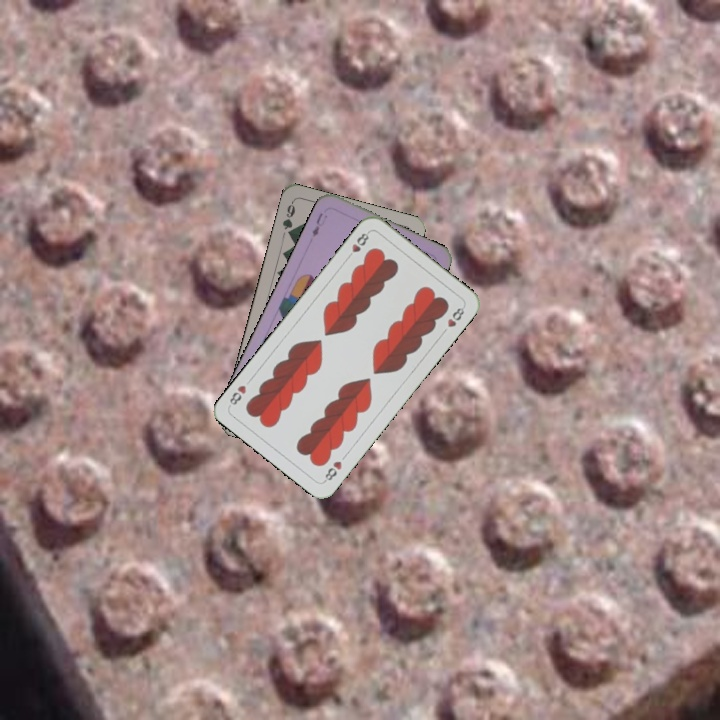EU: (308, 209, 330, 240)
G9: (278, 198, 298, 240)
H8: (343, 227, 372, 262), (320, 457, 345, 485)
